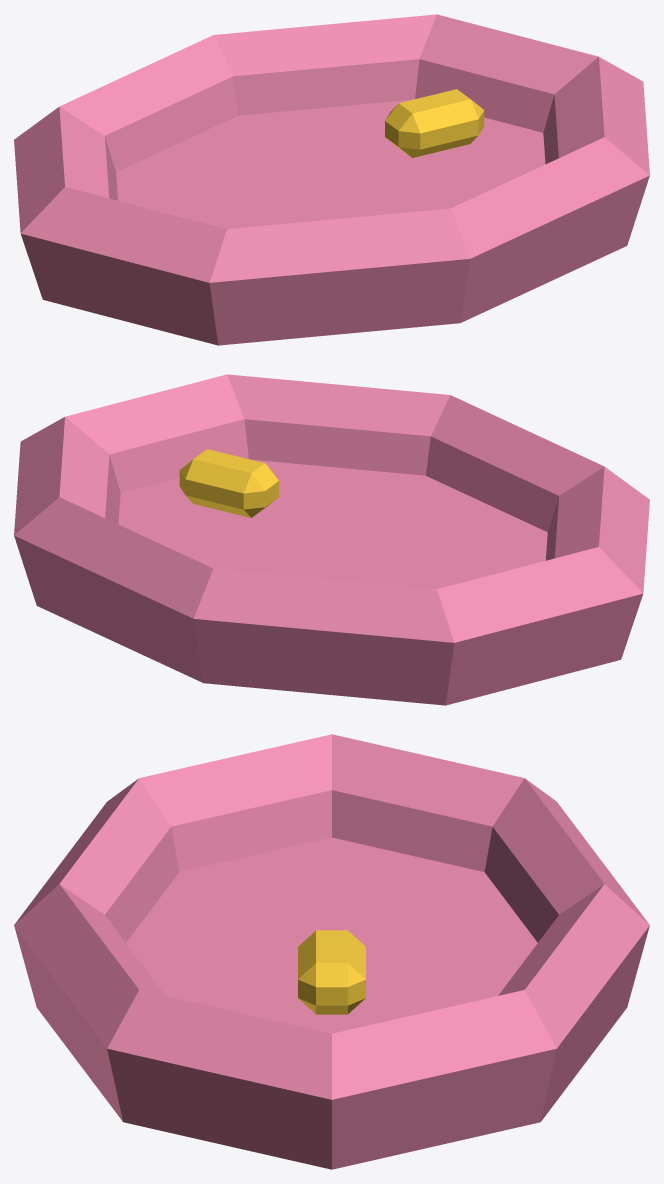
File: PetBed.fbx
The picture shows the model from 3 angles, top to bottom: view 1: azimuth 30°, elevation 25°; view 2: azimuth 150°, elevation 25°; view 3: azimuth 270°, elevation 25°; orthographic projection. The views are drawn at different scales.
Parts seen in each view (by area): view 1: PetBed; view 2: PetBed; view 3: PetBed.
Boxes of the visible parts, bbox=[...] form: PetBed: bbox=[14, 14, 649, 345]; PetBed: bbox=[14, 374, 649, 705]; PetBed: bbox=[14, 734, 649, 1169].
Size of the model in its own units: 3.64 by 0.6 by 2.8.
Materials: 1 (1 with a texture image).
